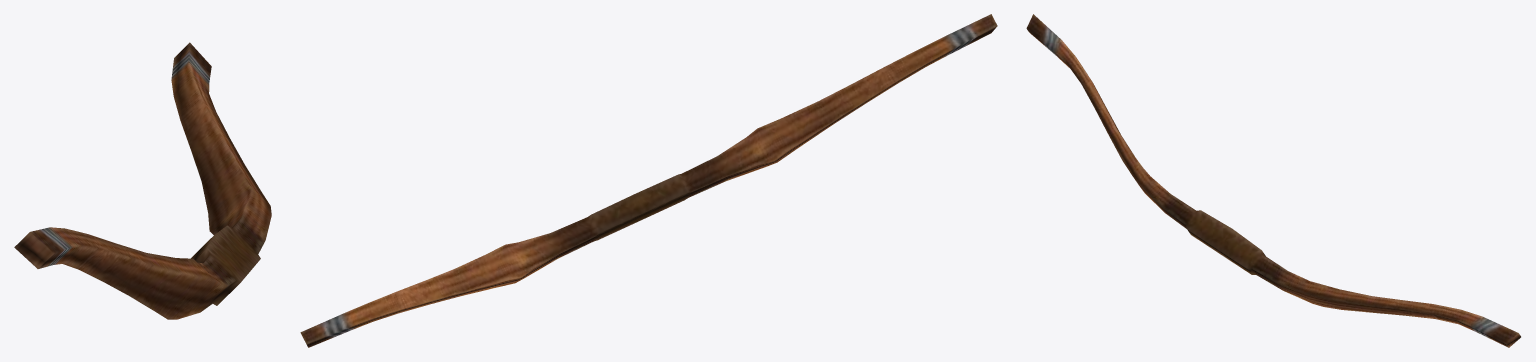
File: rangedweapon-base.glb
The picture shows the model from 3 angles, left to right: view 1: azimuth 30°, elevation 25°; view 2: azimuth 150°, elevation 25°; view 3: azimuth 270°, elevation 25°; orthographic projection. The views are drawn at different scales.
Bounding box in the file's own units: 0.9166 × 0.4655 × 1.18.
1 material, 1 textured.
